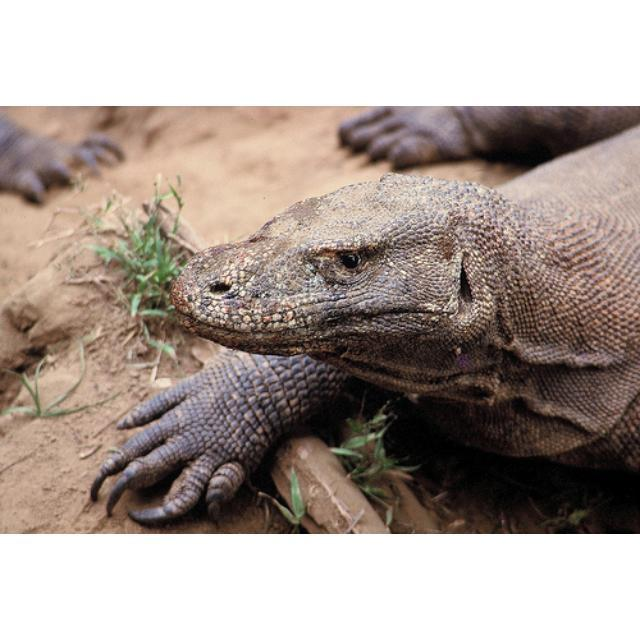KomodoDragon: (91, 173, 637, 530)
